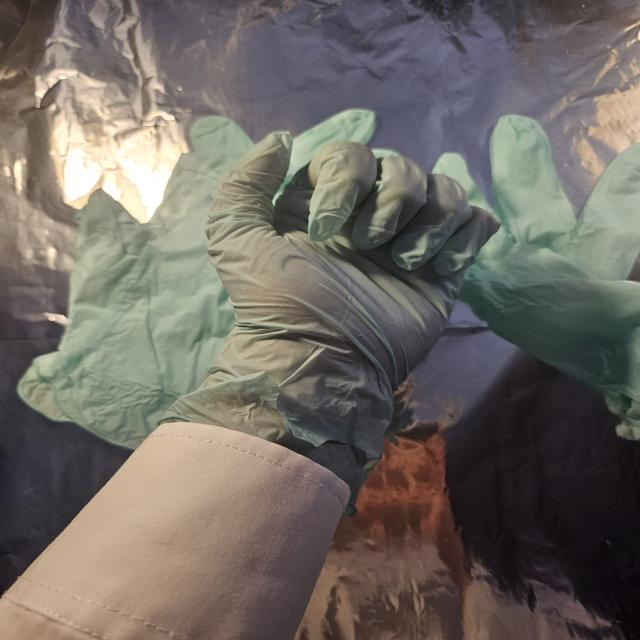gloves_damaged: (158, 129, 499, 501)
